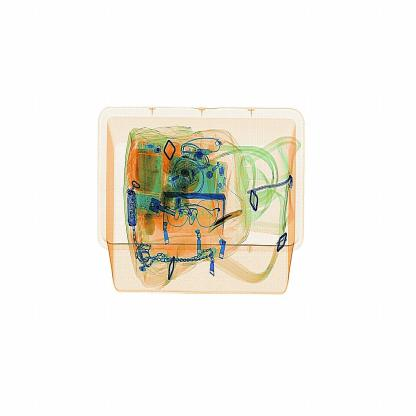wrench: (197, 209, 246, 230)
